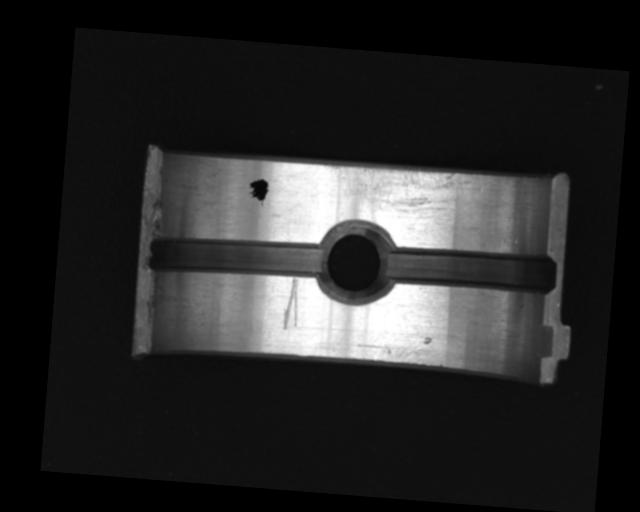blot: (246, 176, 270, 208)
bruise: (422, 336, 432, 345)
gap: (143, 229, 328, 288), (381, 243, 558, 298)
hole: (317, 219, 396, 304)
nick: (280, 275, 302, 331)
scratch: (319, 159, 487, 221)
